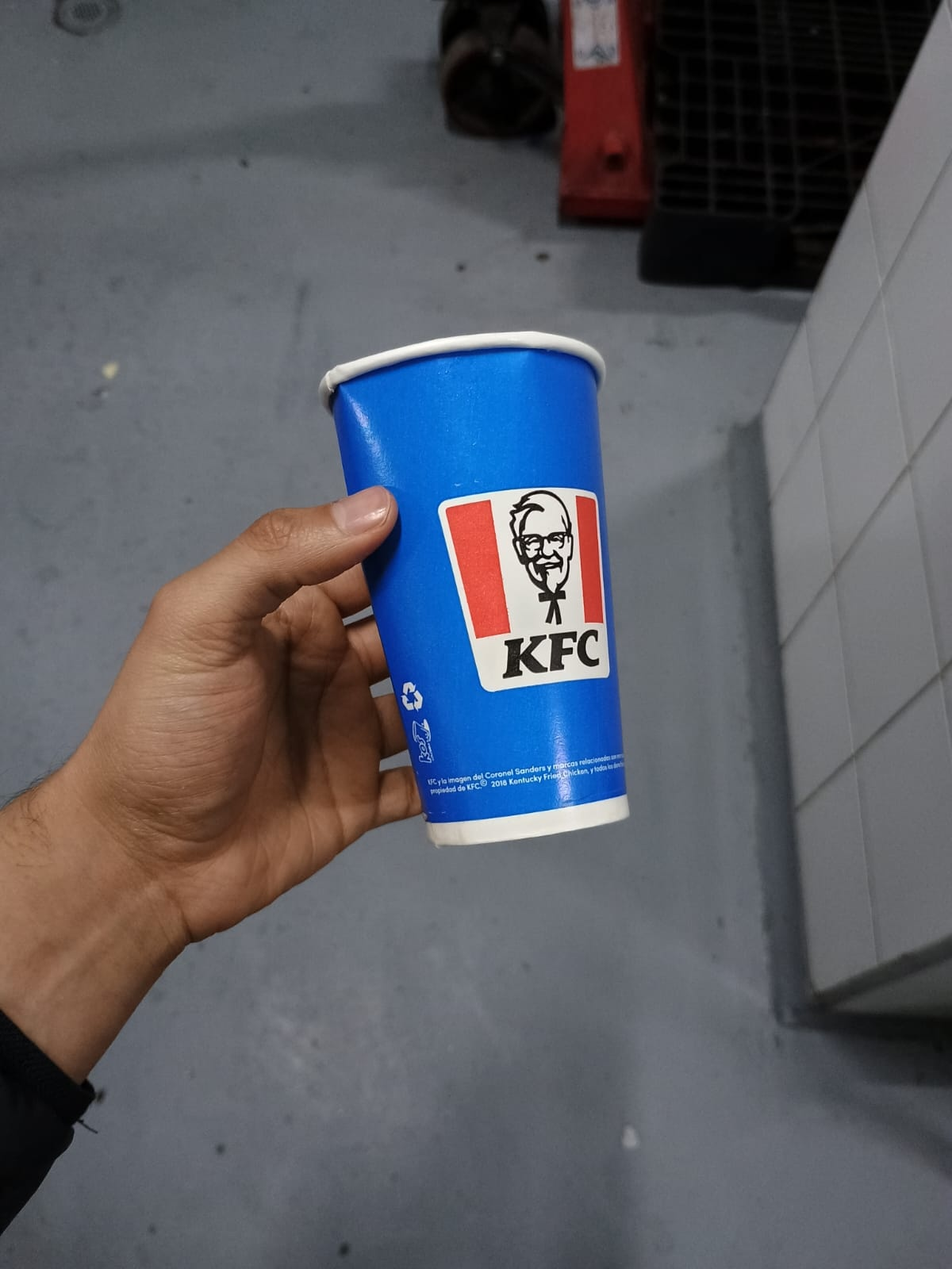Carton: (319, 333, 630, 848)
